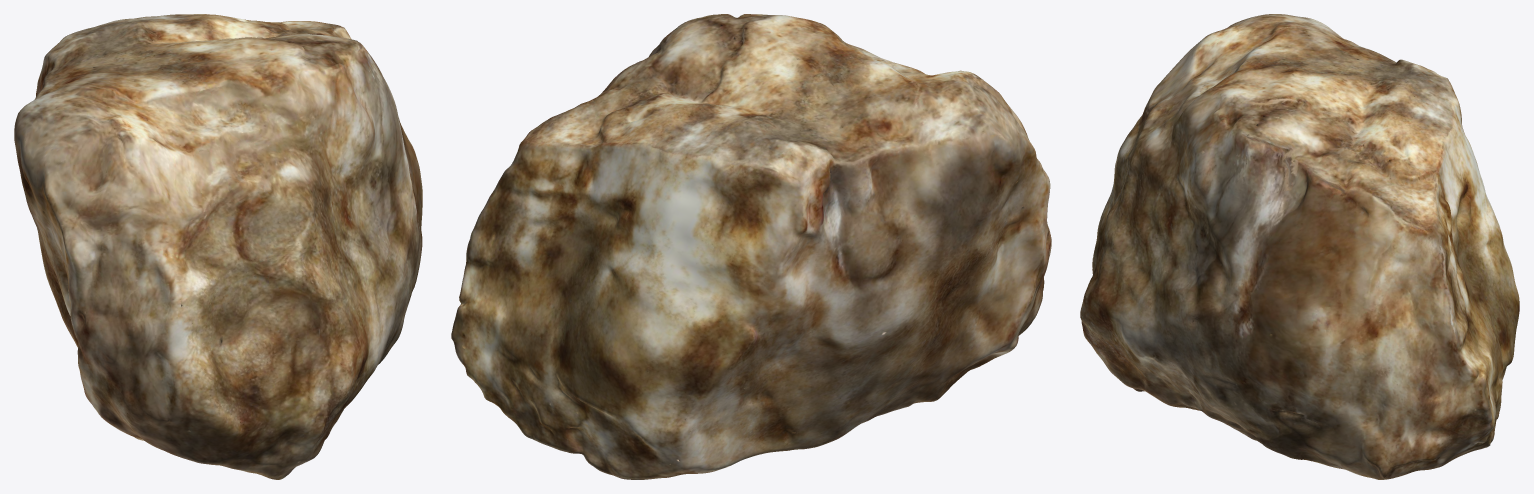
File: LightRock3.fbx
3 views of the same model, side by side, from view 1: azimuth 30°, elevation 25°; view 2: azimuth 150°, elevation 25°; view 3: azimuth 270°, elevation 25° (orthographic). The views are drawn at different scales.
Visible parts, largest first — view 1: Mesh_0; view 2: Mesh_0; view 3: Mesh_0.
Boxes of the visible parts, box(x1,y1,x2,y2) form: Mesh_0: box(14, 14, 422, 479); Mesh_0: box(451, 14, 1051, 479); Mesh_0: box(1080, 14, 1519, 479).
Size of the model in its own units: 284 by 227 by 274.
1 material, 1 textured.
